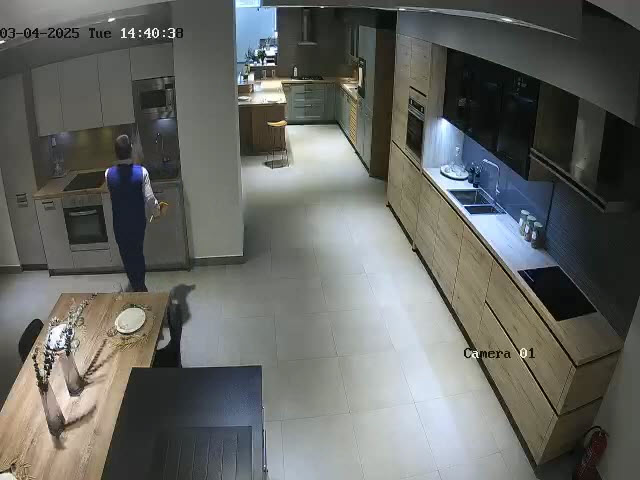employee: (104, 135, 161, 293)
